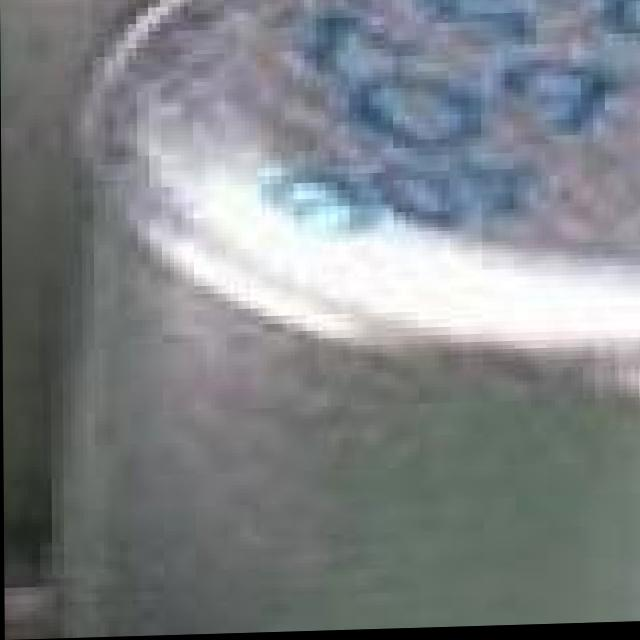capacitor: (28, 0, 640, 639), (0, 0, 536, 616)
